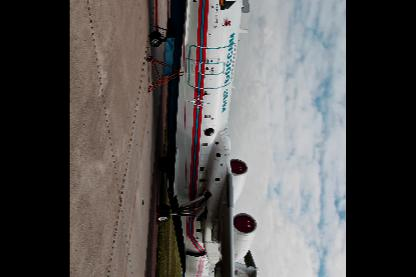B52: (149, 0, 264, 276)
